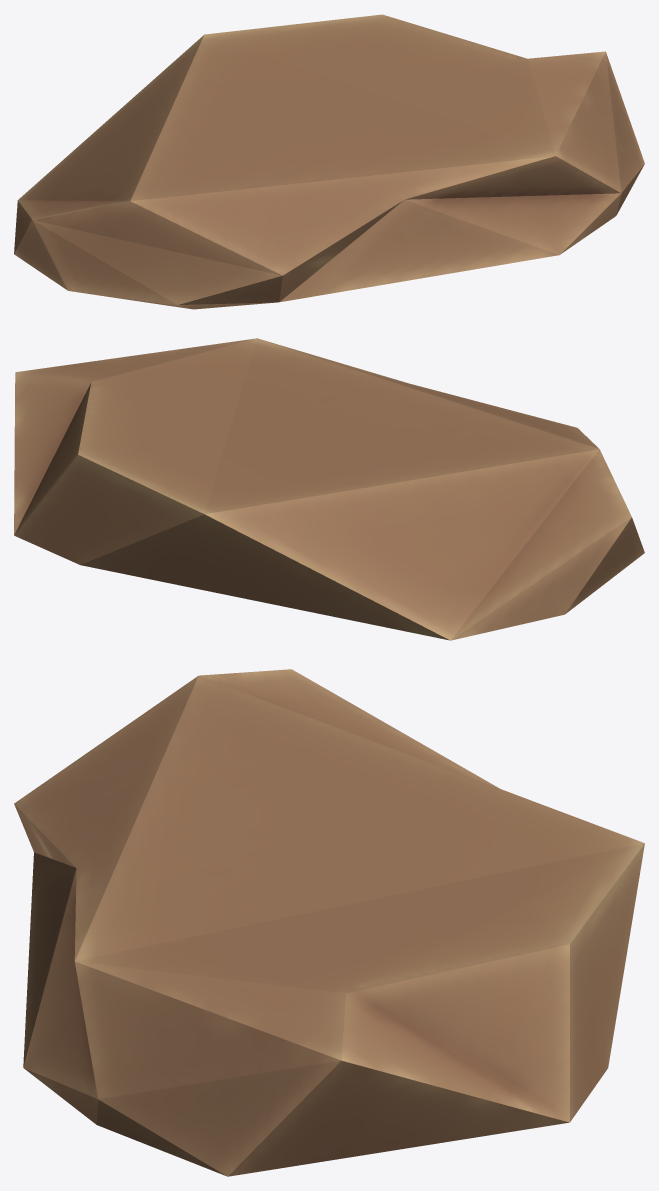
File: Rock_20.fbx
3 renders of one model, top to bottom at view 1: azimuth 30°, elevation 25°; view 2: azimuth 150°, elevation 25°; view 3: azimuth 270°, elevation 25°, orthographic. The views are drawn at different scales.
Visible parts, largest first — view 1: Rock_20; view 2: Rock_20; view 3: Rock_20.
Part boxes in pixels (x1=…): Rock_20: x1=14, y1=14, x2=644, y2=309; Rock_20: x1=14, y1=338, x2=644, y2=640; Rock_20: x1=14, y1=669, x2=644, y2=1176.
Size of the model in its own units: 42.88 by 28.04 by 6.81.
Materials: 1 (1 with a texture image).
